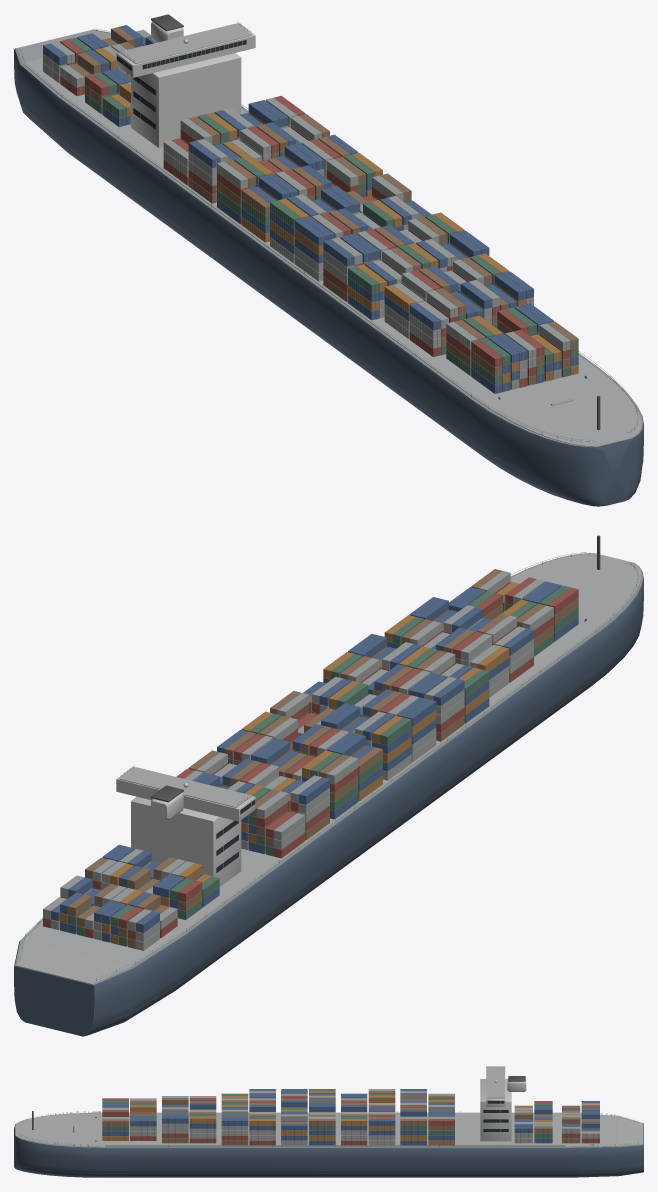
The model's file is vessel-container.glb.
The picture shows the model from 3 angles, top to bottom: view 1: azimuth 30°, elevation 25°; view 2: azimuth 150°, elevation 25°; view 3: azimuth 270°, elevation 25°; orthographic projection. The views are drawn at different scales.
Visible parts, largest first — view 1: vessel-container; view 2: vessel-container; view 3: vessel-container.
Part boxes in pixels (x1,y1,x2,y2): vessel-container: (14, 14, 643, 506); vessel-container: (14, 535, 643, 1036); vessel-container: (14, 1066, 643, 1177).
Size of the model in its own units: 40 by 45.3 by 300.
